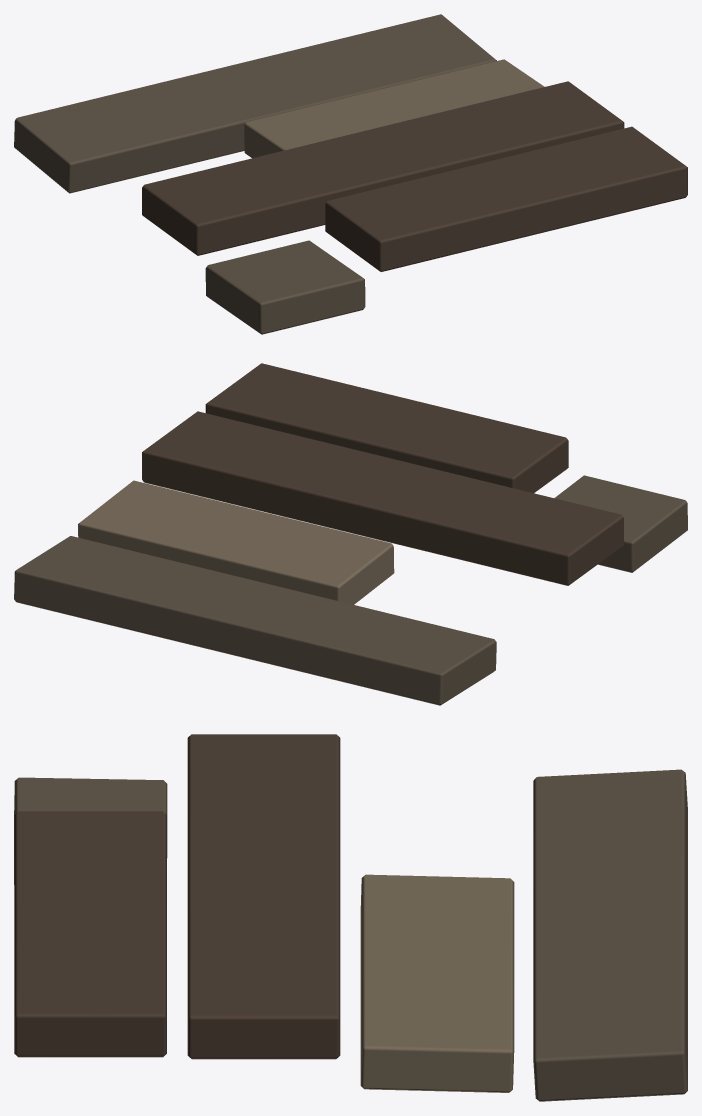
Rendered from ghost-town-boardwalk-broken.ff9a4874.glb.
3 renders of one model, top to bottom at view 1: azimuth 30°, elevation 25°; view 2: azimuth 150°, elevation 25°; view 3: azimuth 270°, elevation 25°, orthographic. The views are drawn at different scales.
Parts seen in each view (by area): view 1: body; view 2: body; view 3: body.
Part boxes in pixels (x1,y1,x2,y2): body: [14, 14, 687, 334]; body: [14, 363, 687, 705]; body: [14, 734, 687, 1101].
Bounding box in the file's own units: 0.97 × 0.1461 × 0.972.
